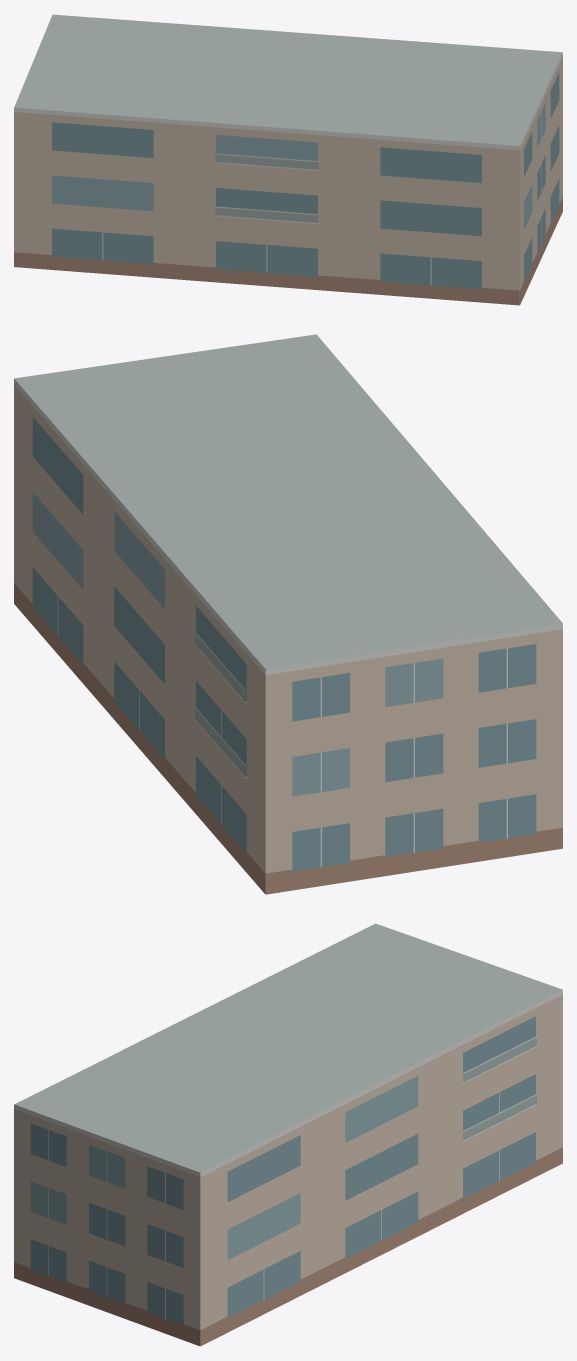
The model's file is survey-upis-32779209.glb.
The picture shows the model from 3 angles, top to bottom: view 1: azimuth 30°, elevation 25°; view 2: azimuth 150°, elevation 25°; view 3: azimuth 270°, elevation 25°; orthographic projection. The views are drawn at different scales.
Visible parts, largest first — view 1: survey-upis-32779209.tmp; view 2: survey-upis-32779209.tmp; view 3: survey-upis-32779209.tmp.
Part boxes in pixels (bbox=[...]): survey-upis-32779209.tmp: bbox=[14, 14, 562, 305]; survey-upis-32779209.tmp: bbox=[14, 334, 562, 894]; survey-upis-32779209.tmp: bbox=[14, 923, 562, 1346].
Size of the model in its own units: 28.16 by 9.15 by 26.2.
